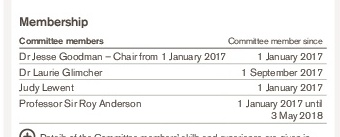table: (0, 0, 340, 137)
